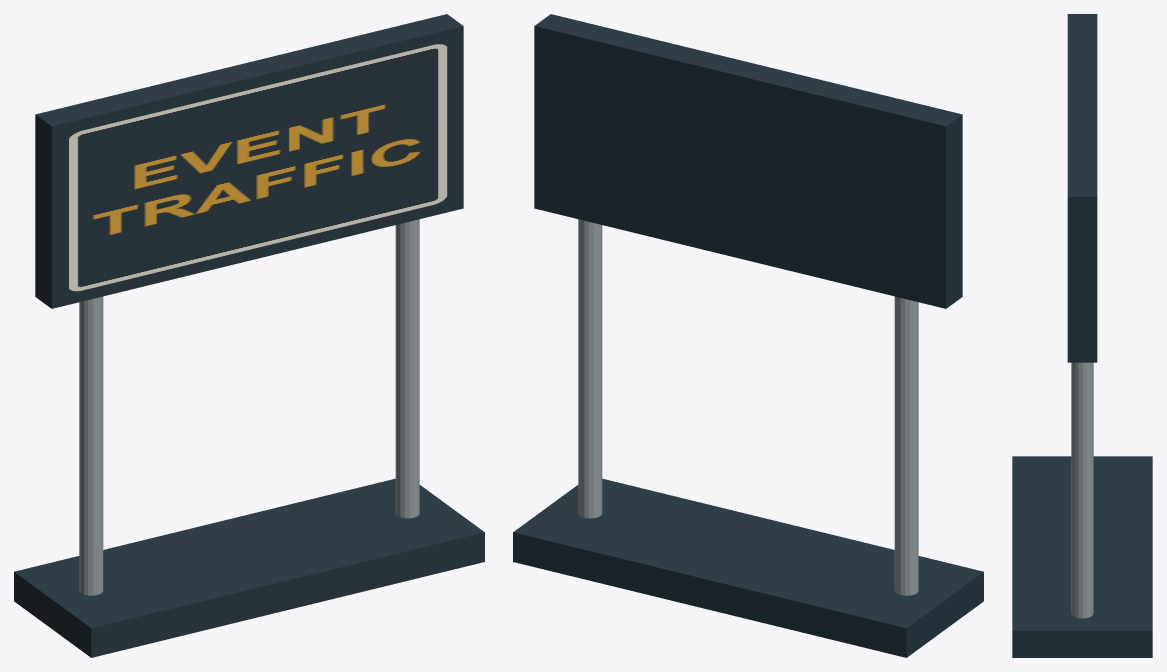
Rendered from scendance-plan-vms-fixed.glb.
3 views of the same model, side by side, from view 1: azimuth 30°, elevation 25°; view 2: azimuth 150°, elevation 25°; view 3: azimuth 270°, elevation 25° (orthographic). The views are drawn at different scales.
Bounding box in the file's own units: 2.03 × 2.41 × 0.66.
Materials: 3 (1 with a texture image).
